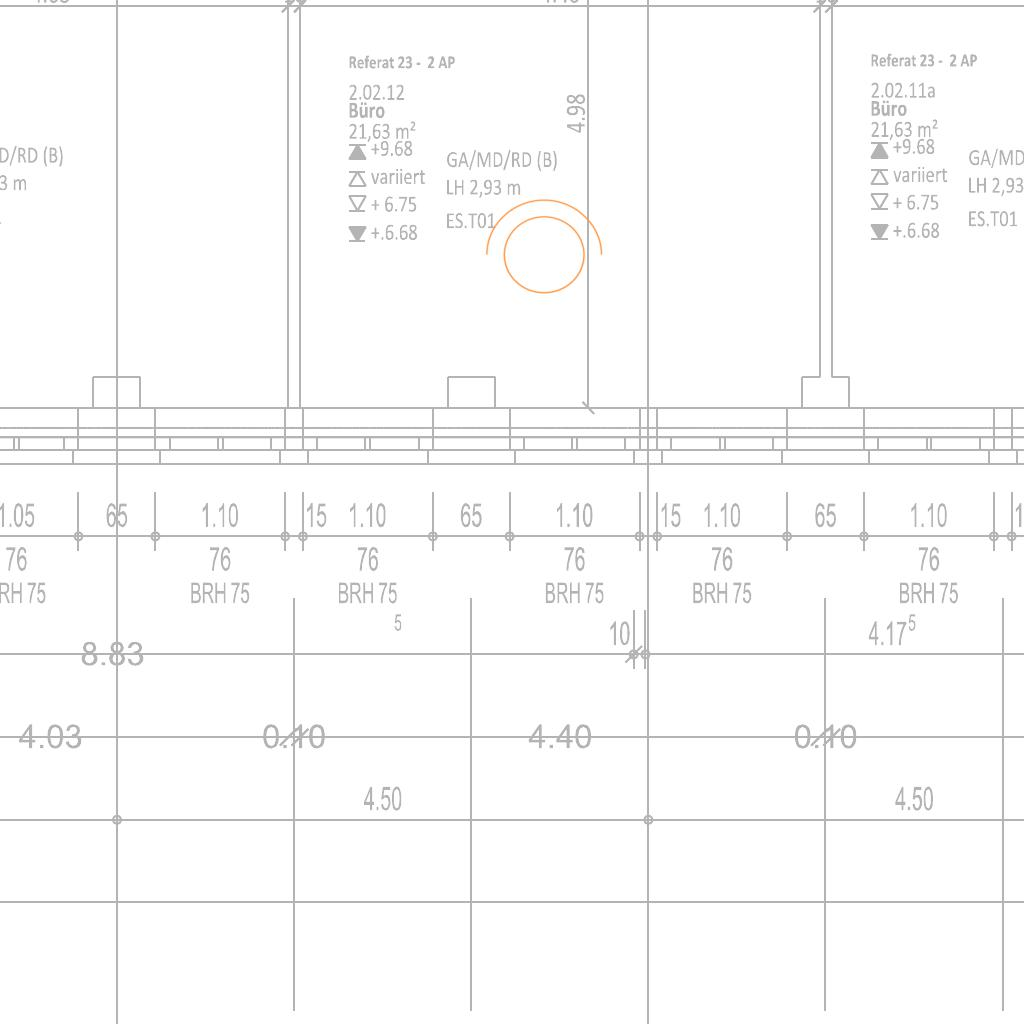Scheinwerfer_fuer_Alarmbeleuchtung: (475, 194, 607, 306)
